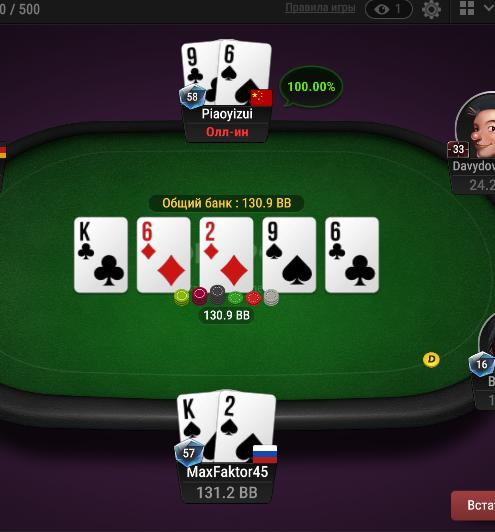2d: (201, 218, 252, 292)
2s: (219, 389, 274, 464)
6c: (326, 218, 379, 291)
6d: (137, 217, 190, 292)
6s: (219, 40, 271, 104)
9c: (181, 39, 219, 106)
9s: (263, 216, 315, 291)
Kc: (74, 216, 129, 293)
Ks: (177, 392, 218, 463)
